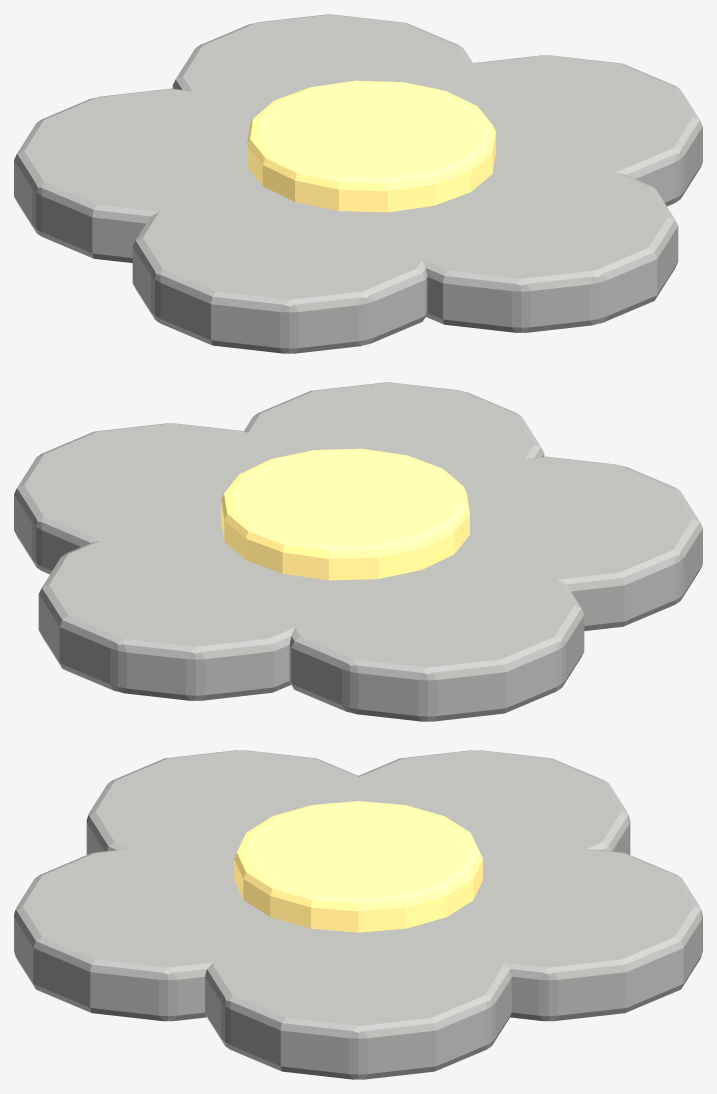
Rendered from SM_UI_FlowerCorner.fbx.
The picture shows the model from 3 angles, top to bottom: view 1: azimuth 30°, elevation 25°; view 2: azimuth 150°, elevation 25°; view 3: azimuth 270°, elevation 25°; orthographic projection.
Visible parts, largest first — view 1: SM_UI_FlowerCorner; view 2: SM_UI_FlowerCorner; view 3: SM_UI_FlowerCorner.
Part boxes in pixels (<box>): SM_UI_FlowerCorner: <box>14,14,702,353</box>; SM_UI_FlowerCorner: <box>14,382,702,721</box>; SM_UI_FlowerCorner: <box>14,750,702,1079</box>.
Bounding box in the file's own units: 1.36 × 0.1875 × 1.39.
